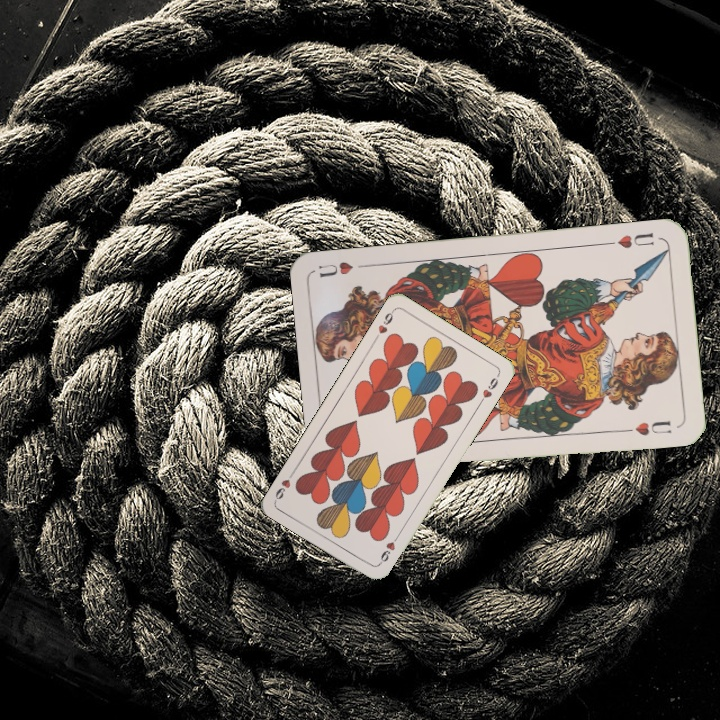H9: (375, 530, 402, 567), (371, 306, 397, 343)
HU: (603, 229, 657, 251)
